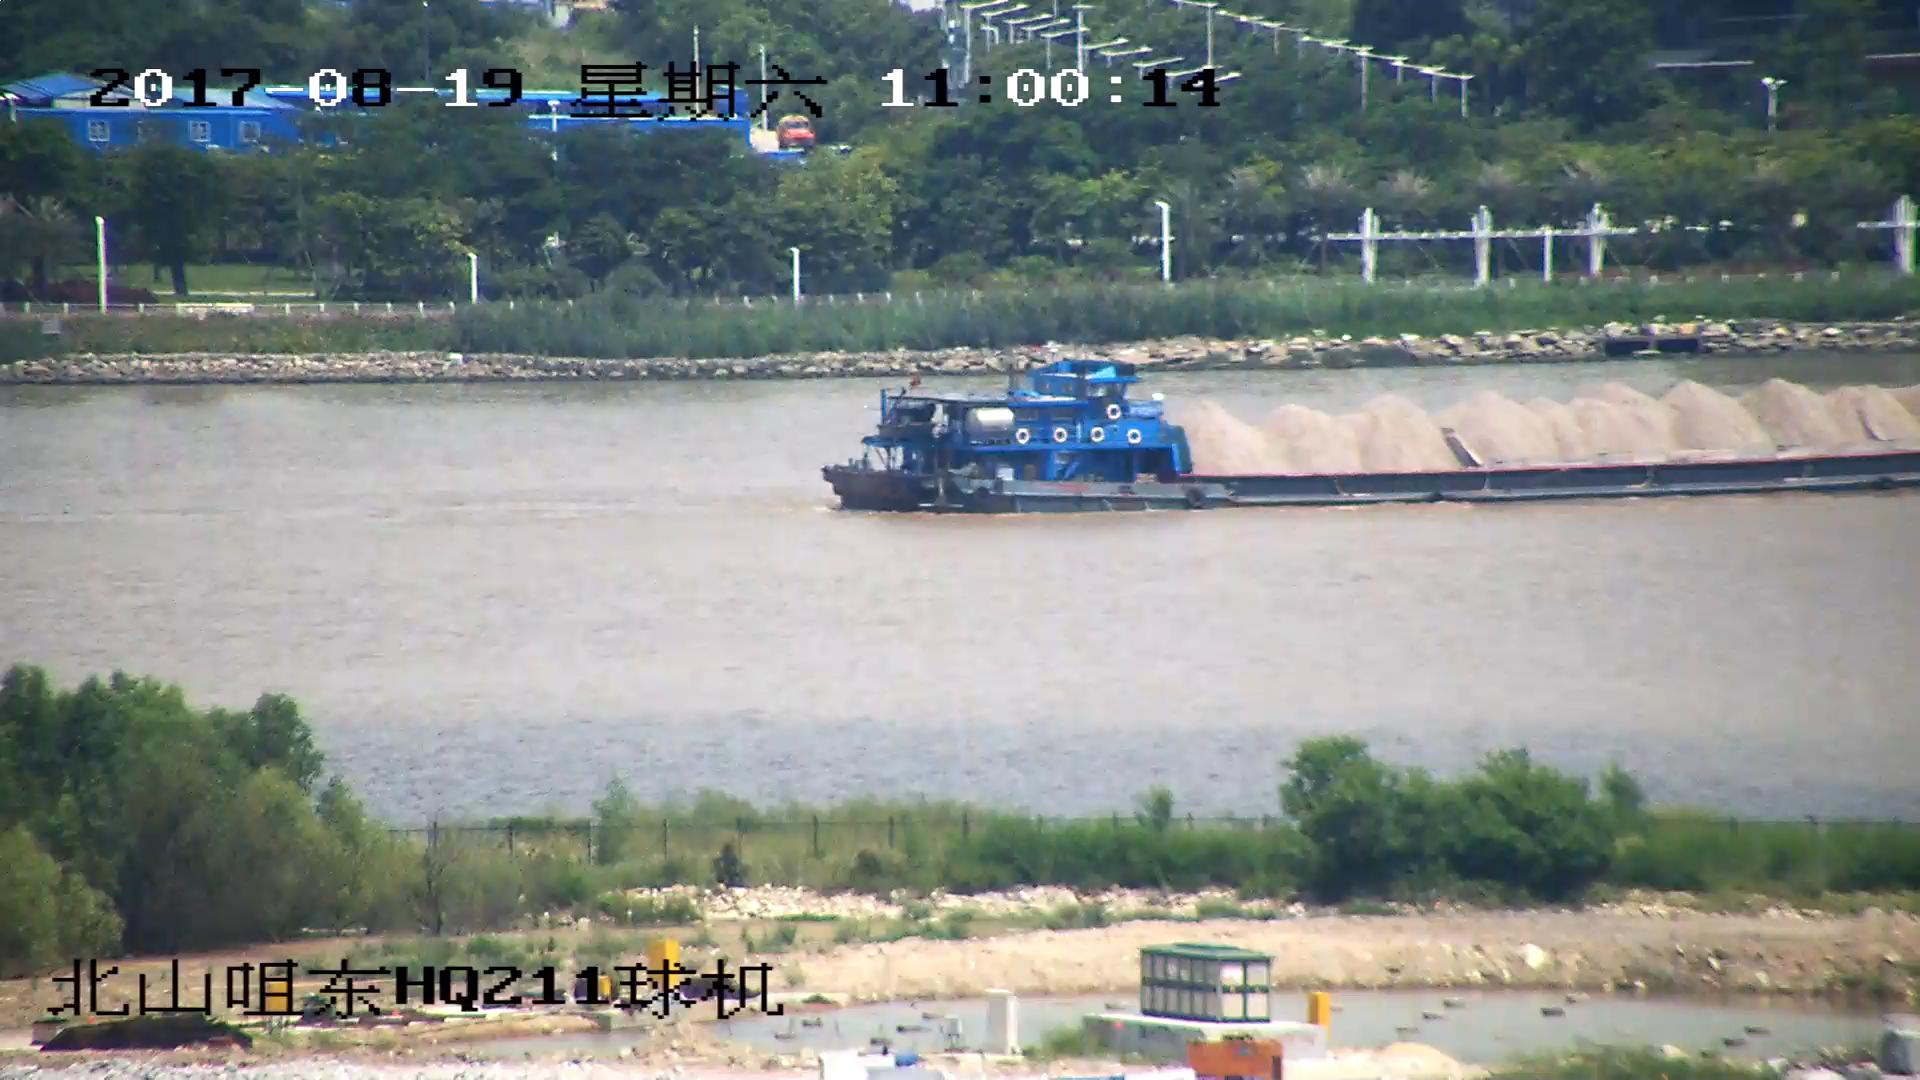ore carrier: (817, 355, 1920, 516)
